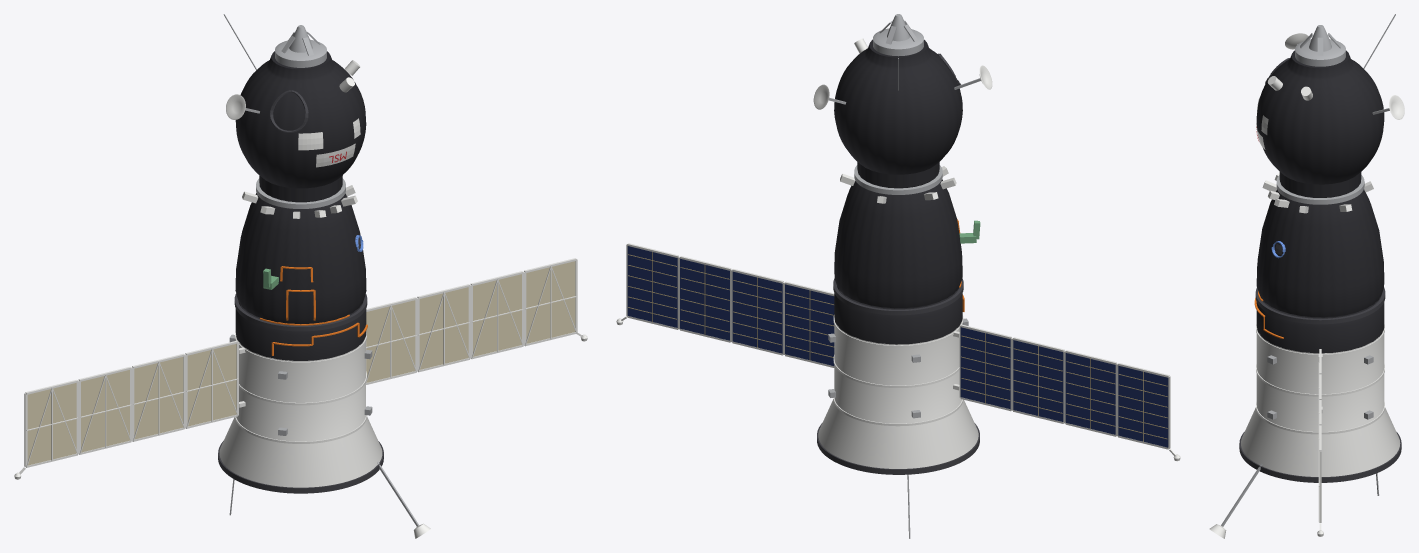
File: msl.glb
The picture shows the model from 3 angles, left to right: view 1: azimuth 30°, elevation 25°; view 2: azimuth 150°, elevation 25°; view 3: azimuth 270°, elevation 25°; orthographic projection. The views are drawn at different scales.
Parts seen in each view (by area): view 1: Solar_Back, SM_Body, OrbitalModule, DescentModule, Solar_Frame, InstrumentSection, SM_Bands, SM_SkirtRim, DM_BaseRing, Docking_Collar, DM_TopRing, DM_TopHardware; view 2: Solar_Cells, SM_Body, OrbitalModule, DescentModule, Solar_Frame, InstrumentSection, Solar_GoldLines, SM_Bands, SM_SkirtRim, DM_BaseRing, Docking_Collar, DM_TopRing; view 3: SM_Body, OrbitalModule, DescentModule, InstrumentSection, SM_Bands, SM_SkirtRim, DM_BaseRing, Docking_Collar, DM_TopRing, Solar_Frame, DM_TopHardware, Docking_Probe (+4 smaller).
Part boxes in pixels (left/top/right/bottom): Solar_Back: left=27, top=261, right=575, bottom=465; SM_Body: left=219, top=335, right=382, bottom=487; OrbitalModule: left=235, top=51, right=366, bottom=202; DescentModule: left=235, top=193, right=366, bottom=324; Solar_Frame: left=19, top=258, right=582, bottom=474; InstrumentSection: left=235, top=302, right=366, bottom=360; SM_Bands: left=235, top=331, right=366, bottom=443; SM_SkirtRim: left=218, top=441, right=383, bottom=493; DM_BaseRing: left=234, top=293, right=367, bottom=331; Docking_Collar: left=275, top=39, right=326, bottom=67; DM_TopRing: left=256, top=178, right=345, bottom=208; DM_TopHardware: left=242, top=185, right=357, bottom=218; Solar_Cells: left=627, top=246, right=1168, bottom=447; SM_Body: left=818, top=318, right=978, bottom=468; OrbitalModule: left=834, top=39, right=962, bottom=188; DescentModule: left=834, top=179, right=962, bottom=308; Solar_Frame: left=621, top=243, right=1175, bottom=455; InstrumentSection: left=834, top=286, right=962, bottom=344; Solar_GoldLines: left=628, top=252, right=1167, bottom=441; SM_Bands: left=833, top=315, right=963, bottom=426; SM_SkirtRim: left=817, top=423, right=979, bottom=474; DM_BaseRing: left=833, top=278, right=963, bottom=315; Docking_Collar: left=873, top=28, right=923, bottom=56; DM_TopRing: left=854, top=165, right=942, bottom=194; SM_Body: left=1241, top=326, right=1400, bottom=476; OrbitalModule: left=1256, top=50, right=1384, bottom=197; DescentModule: left=1256, top=189, right=1384, bottom=318; InstrumentSection: left=1256, top=295, right=1384, bottom=353; SM_Bands: left=1256, top=324, right=1384, bottom=434; SM_SkirtRim: left=1239, top=432, right=1401, bottom=482; DM_BaseRing: left=1255, top=287, right=1385, bottom=324; Docking_Collar: left=1295, top=39, right=1345, bottom=66; DM_TopRing: left=1276, top=175, right=1364, bottom=204; Solar_Frame: left=1318, top=349, right=1322, bottom=529; DM_TopHardware: left=1262, top=173, right=1373, bottom=213; Docking_Probe: left=1309, top=25, right=1331, bottom=51.
Bounding box in the file's own units: 11.16 × 9.32 × 3.38.
